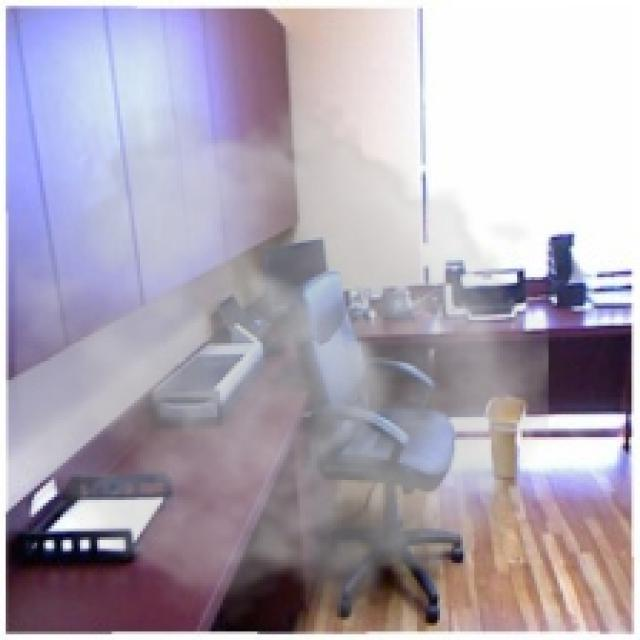Smoke: (14, 86, 549, 634)
